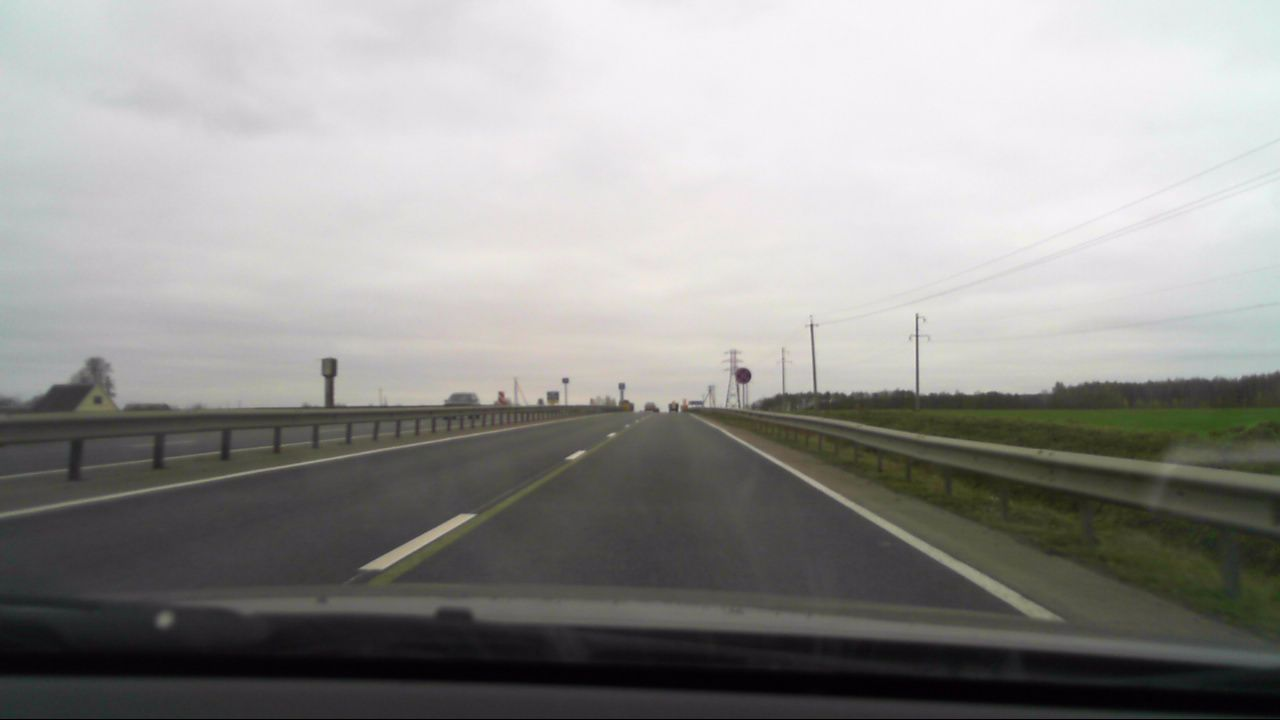No Parking: (734, 366, 750, 383)
